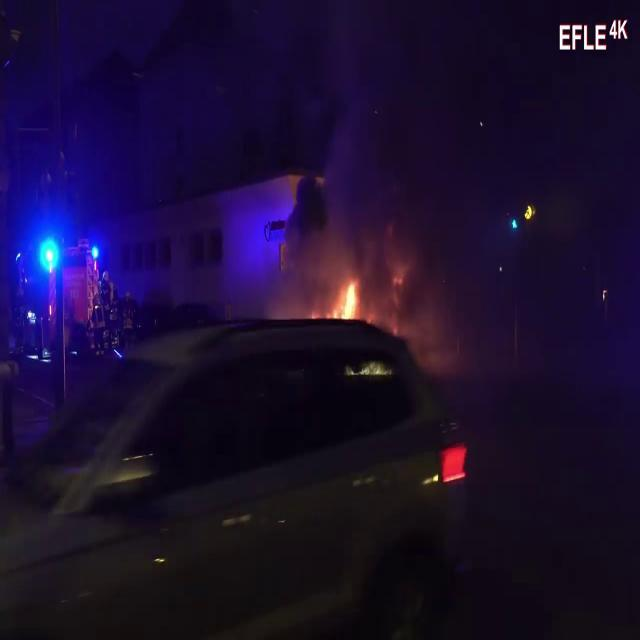Fire: (326, 271, 366, 325)
Smoke: (288, 1, 494, 316)
